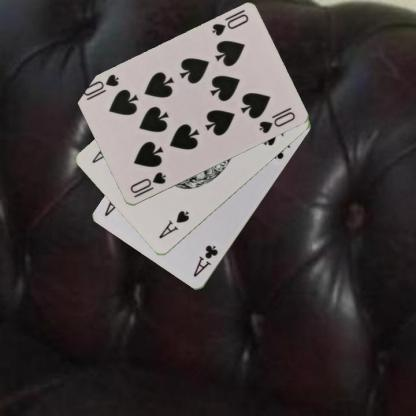10s: (209, 12, 250, 38), (127, 170, 167, 196)
Ac: (191, 243, 220, 279)
As: (156, 208, 191, 241)
